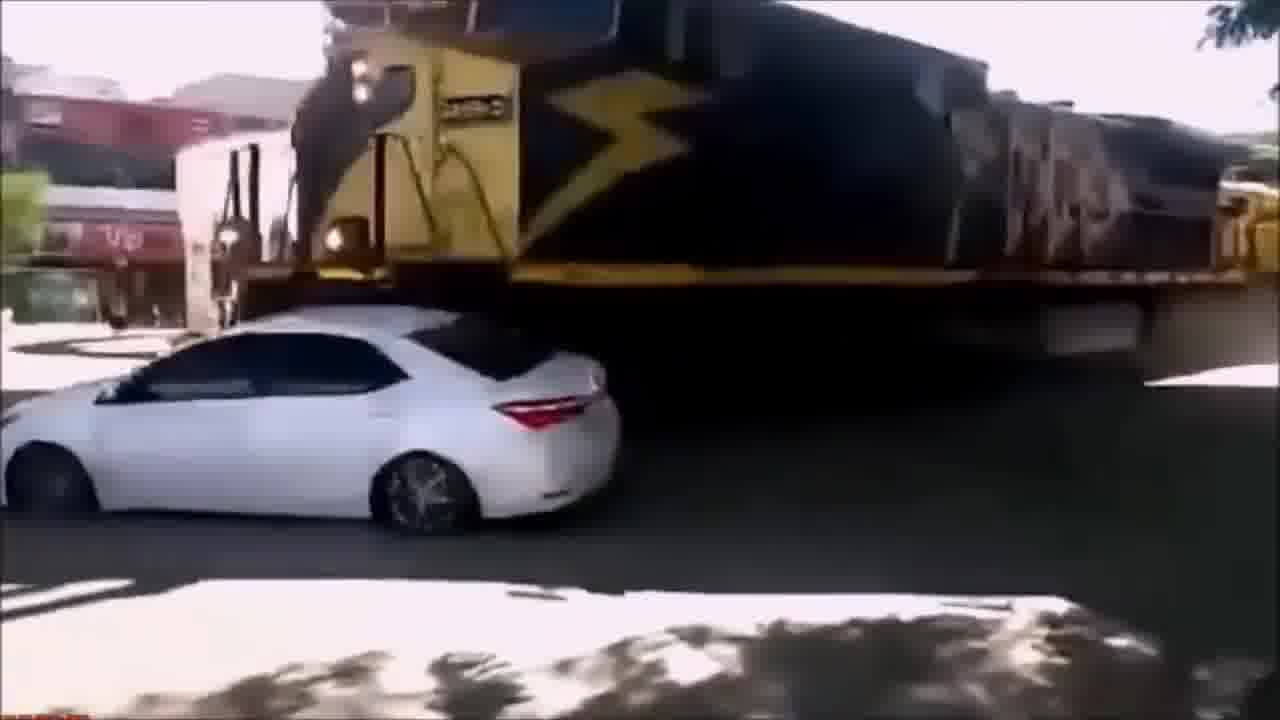crossing railway track: (8, 268, 636, 609)
